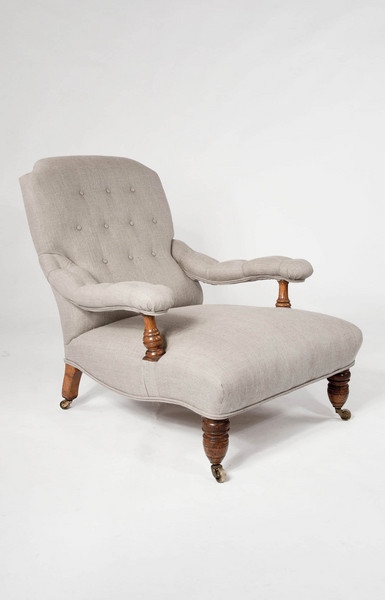chairs: (16, 154, 361, 485)
